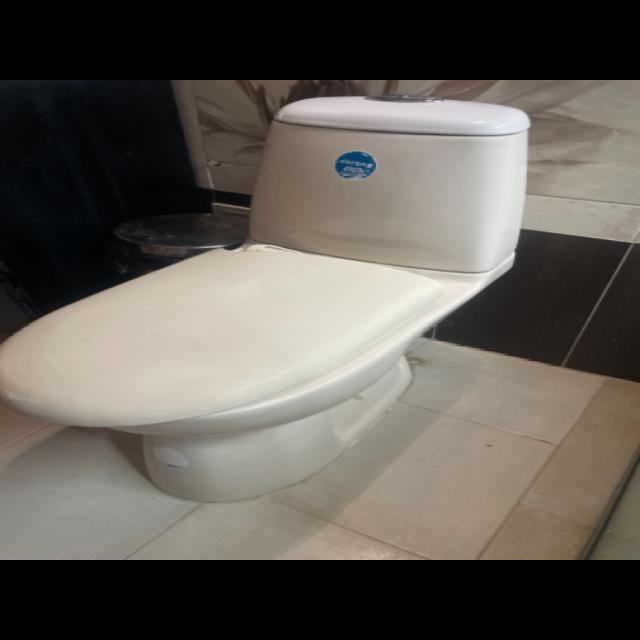toilet: (0, 92, 530, 502)
